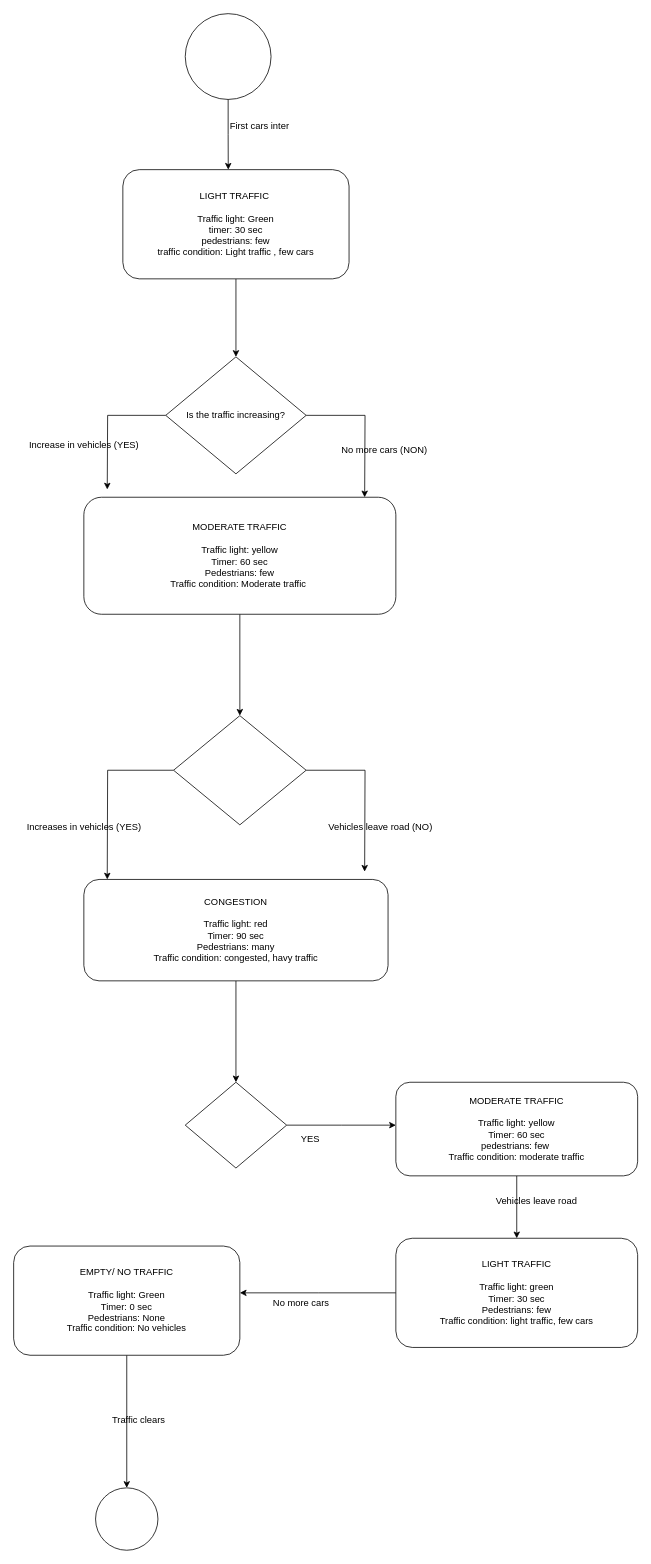
The diagram is 651 pixels wide and 1564 high, and some of its shapes have lost their labels. Here are the shapes that lost their labels. From the top down, the centre of each, then its label:
the point at 227,56: Initial state
the point at 239,770: Is the traffic congested ?
the point at 235,1124: Traffic clearing?
the point at 126,1518: Final state
